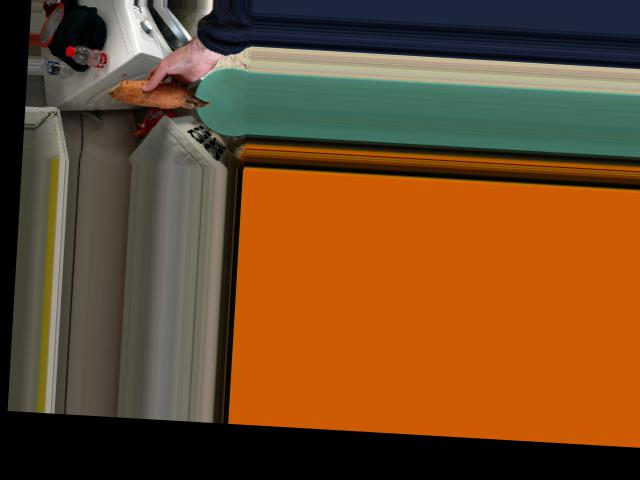sweet_potato: (120, 71, 208, 110)
